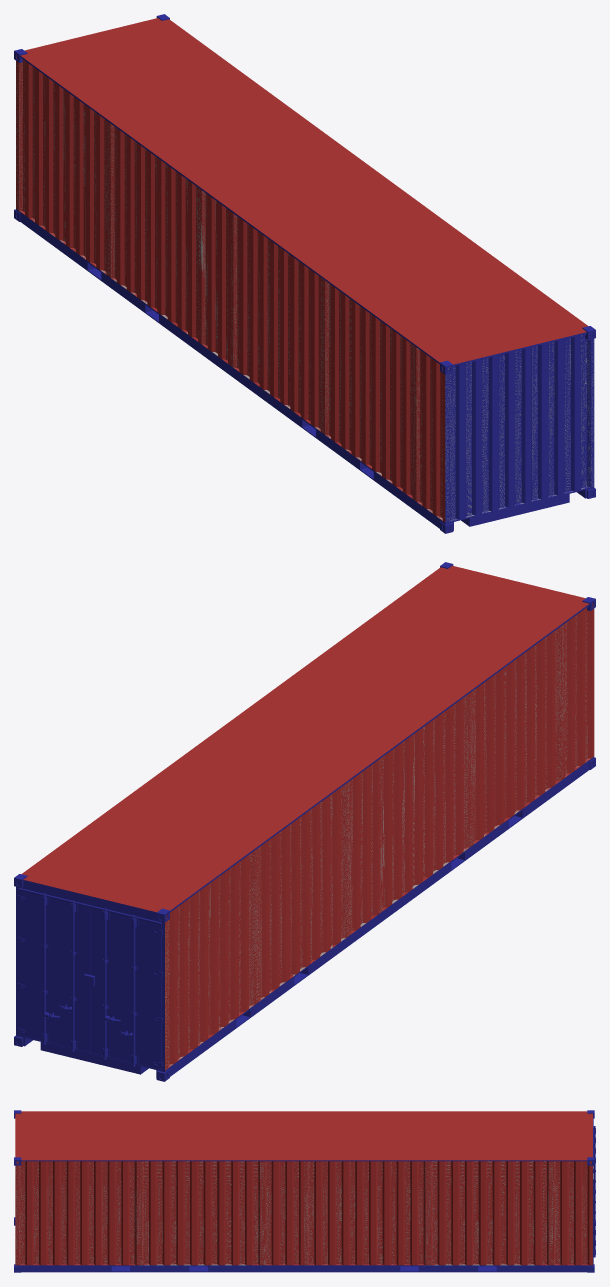
Rendered from Container hollow 40ft.fbx.
The picture shows the model from 3 angles, top to bottom: view 1: azimuth 30°, elevation 25°; view 2: azimuth 150°, elevation 25°; view 3: azimuth 270°, elevation 25°; orthographic projection. The views are drawn at different scales.
Parts seen in each view (by area): view 1: Container_40ft_hollow_body; view 2: Container_40ft_hollow_body, Container_40ft_hollow_Door2, Container_40ft_hollow_Door3; view 3: Container_40ft_hollow_body, Container_40ft_hollow_Door2.
Boxes of the visible parts, x1,y1,x2,y2 form: Container_40ft_hollow_body: [14, 14, 595, 533]; Container_40ft_hollow_body: [14, 562, 595, 1081]; Container_40ft_hollow_Door2: [17, 888, 94, 1053]; Container_40ft_hollow_Door3: [90, 905, 162, 1071]; Container_40ft_hollow_body: [14, 1110, 594, 1272]; Container_40ft_hollow_Door2: [593, 1142, 595, 1264].
Size of the model in its own units: 2.46 by 2.61 by 12.21.
